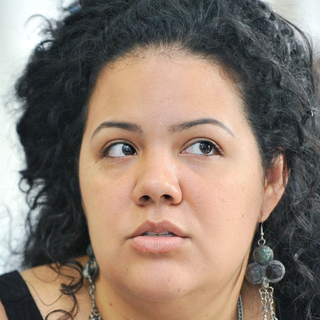eye: (171, 135, 227, 162), (94, 135, 146, 164)
